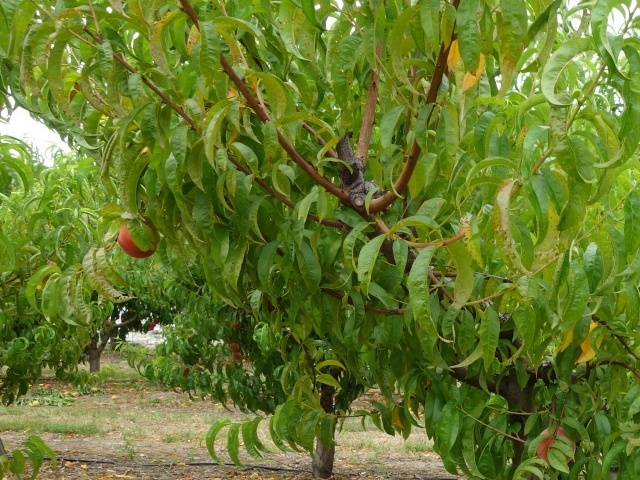peach: (530, 422, 577, 472), (113, 218, 163, 262)
